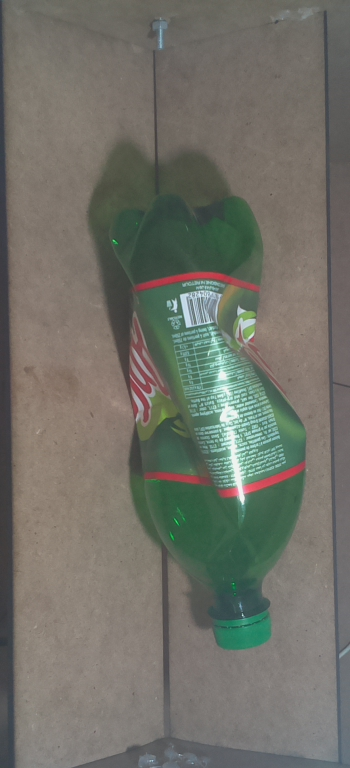Bouteille_1L: (101, 191, 315, 655)
